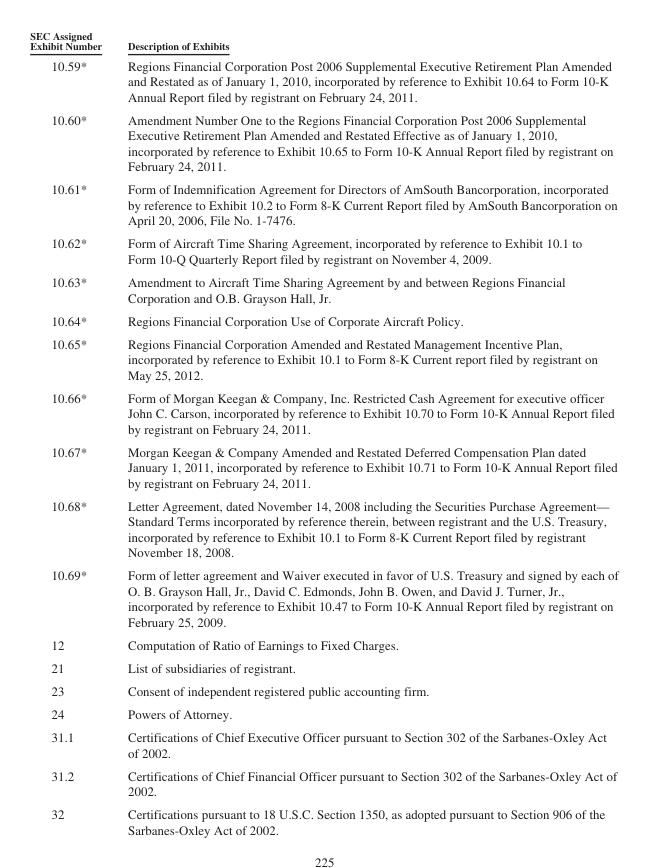table: (29, 29, 617, 836)
table column: (114, 29, 617, 836), (29, 29, 114, 836)
table column header: (29, 29, 617, 54)
table row: (29, 107, 617, 177), (29, 493, 617, 563), (29, 563, 617, 633), (29, 177, 617, 231), (29, 331, 617, 385), (29, 385, 617, 439), (29, 439, 617, 493), (29, 54, 617, 107), (29, 231, 617, 270), (29, 763, 617, 802), (29, 270, 617, 308), (29, 725, 617, 763), (29, 802, 617, 836), (29, 29, 617, 54), (29, 308, 617, 331), (29, 633, 617, 656), (29, 656, 617, 679), (29, 679, 617, 702), (29, 702, 617, 725)
